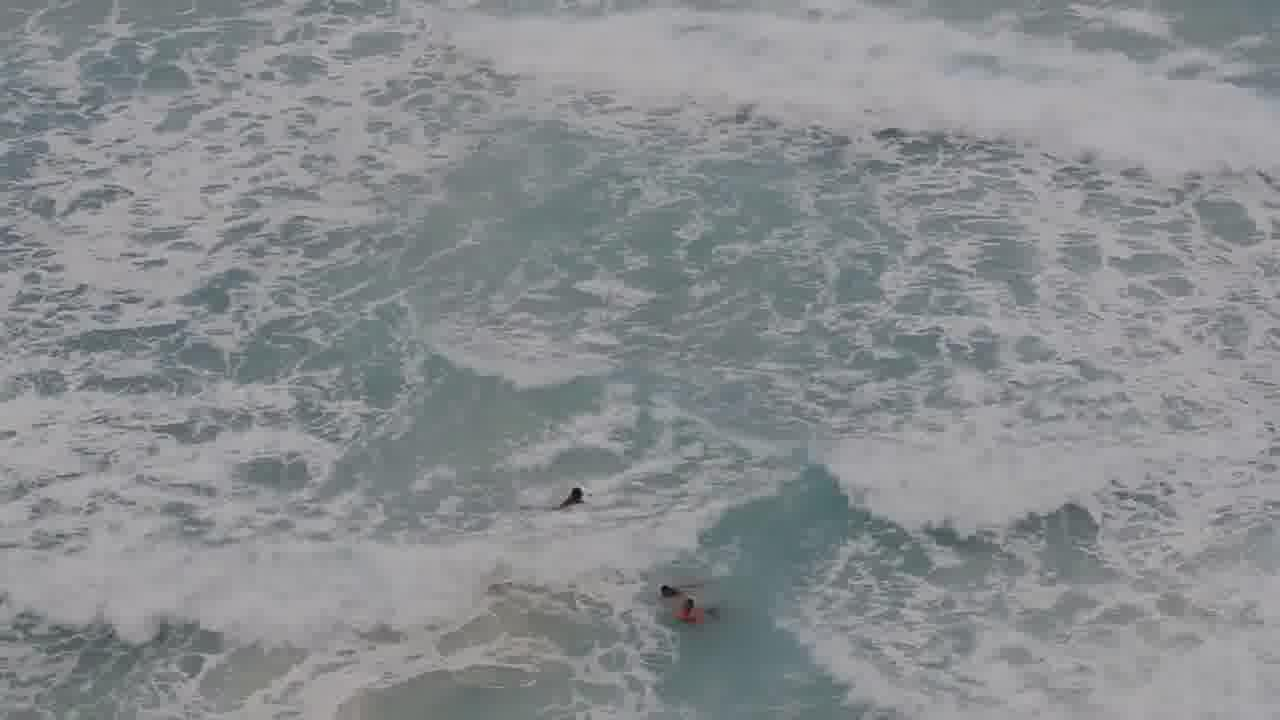swimmer: (544, 476, 596, 513), (670, 592, 726, 626), (649, 570, 700, 600)
